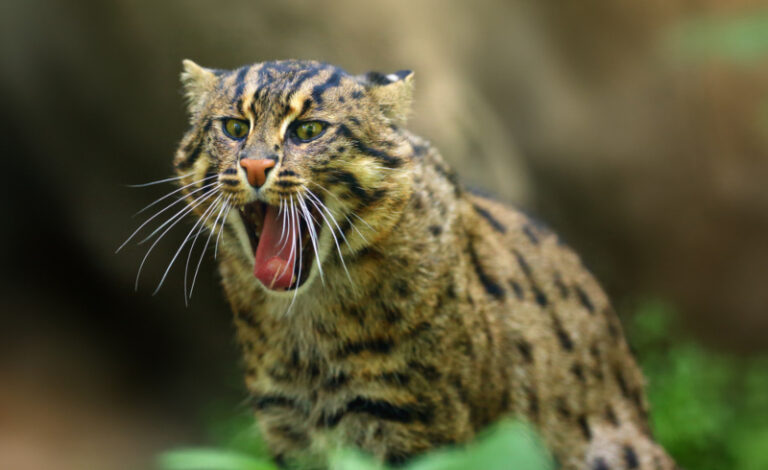cat: (145, 41, 705, 470)
